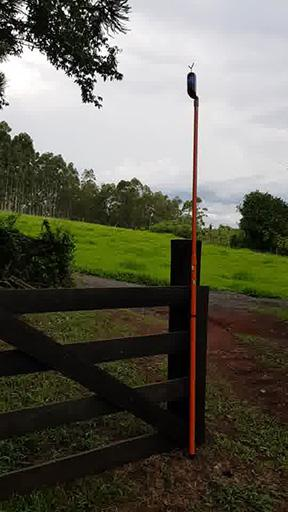Detector_Tensao_Contato: (186, 62, 197, 98)
Vara_Manobra: (188, 98, 200, 456)
